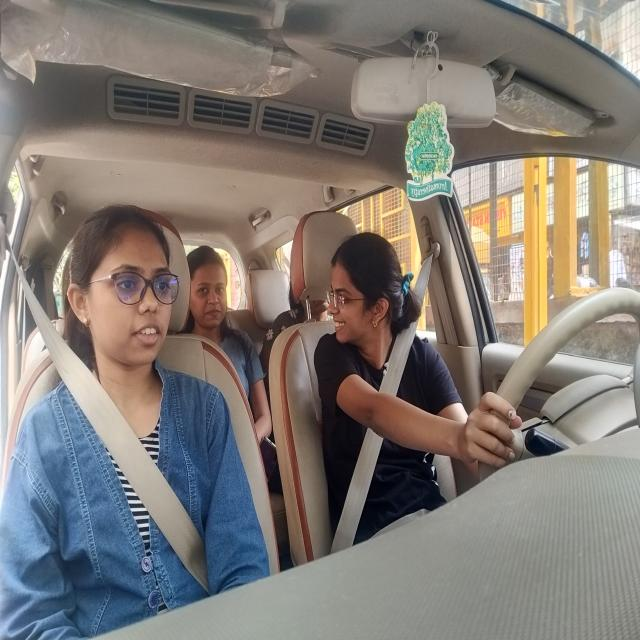LeftRight: (318, 222, 414, 382)
person: (64, 194, 183, 385), (179, 229, 242, 361)
talking: (330, 312, 355, 342)
